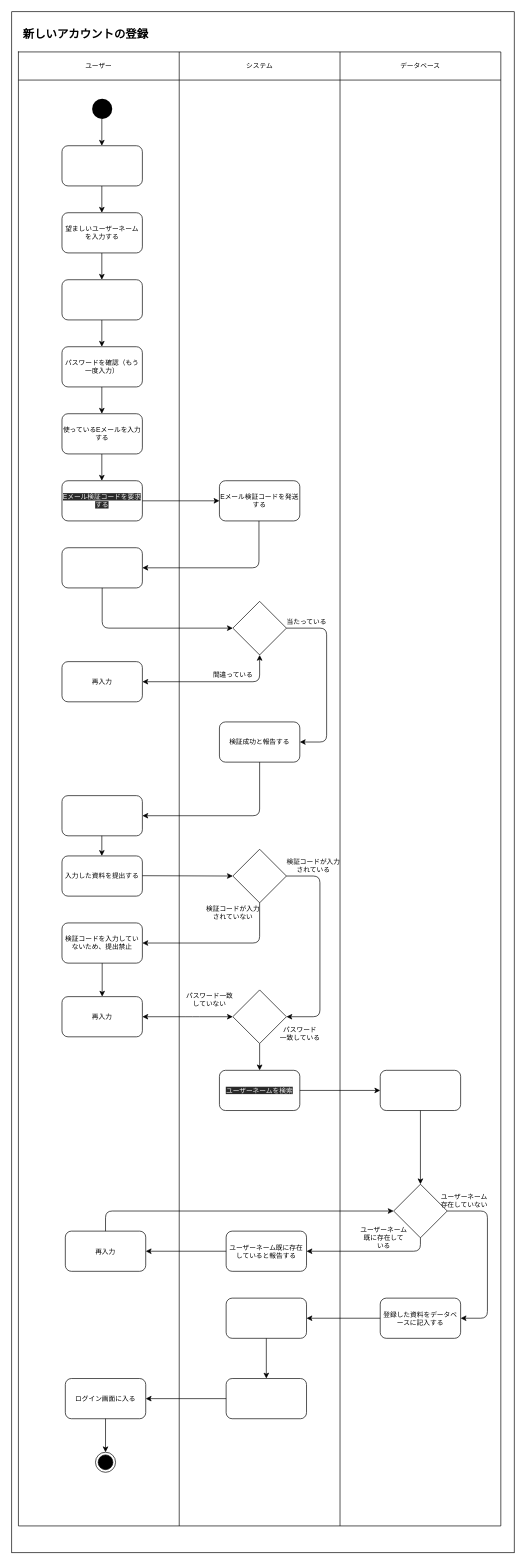
The diagram is 526 pixels wide and 1564 high, and some of its shapes have lost their labels. The centre of each missing label's shape, as x and y in pixels:
"データベースの中にユーザーネームを検索" goes at (x=420, y=1090).
"ログイン画面に飛ぶ" goes at (x=266, y=1398).
"個人写真をアップロードする" goes at (x=101, y=815).
"望ましいパスワードを入力する" goes at (x=101, y=299).
"検証コードを入力する" goes at (x=101, y=567).
"正確なurlを入力したら、ログイン画面に入って、登録のハイパーリンクをクリックして、登録画面に入る。" goes at (x=101, y=165).
"登録成功と報告する" goes at (x=266, y=1317).
